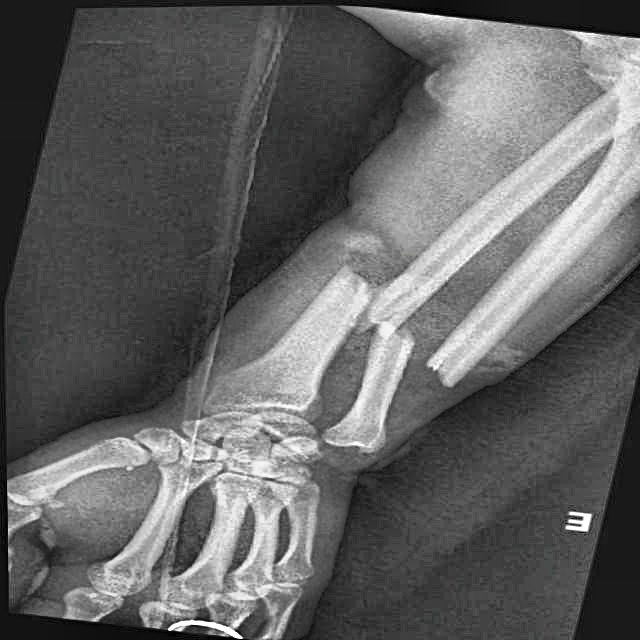Transverse: (310, 243, 430, 342), (360, 311, 496, 396)
